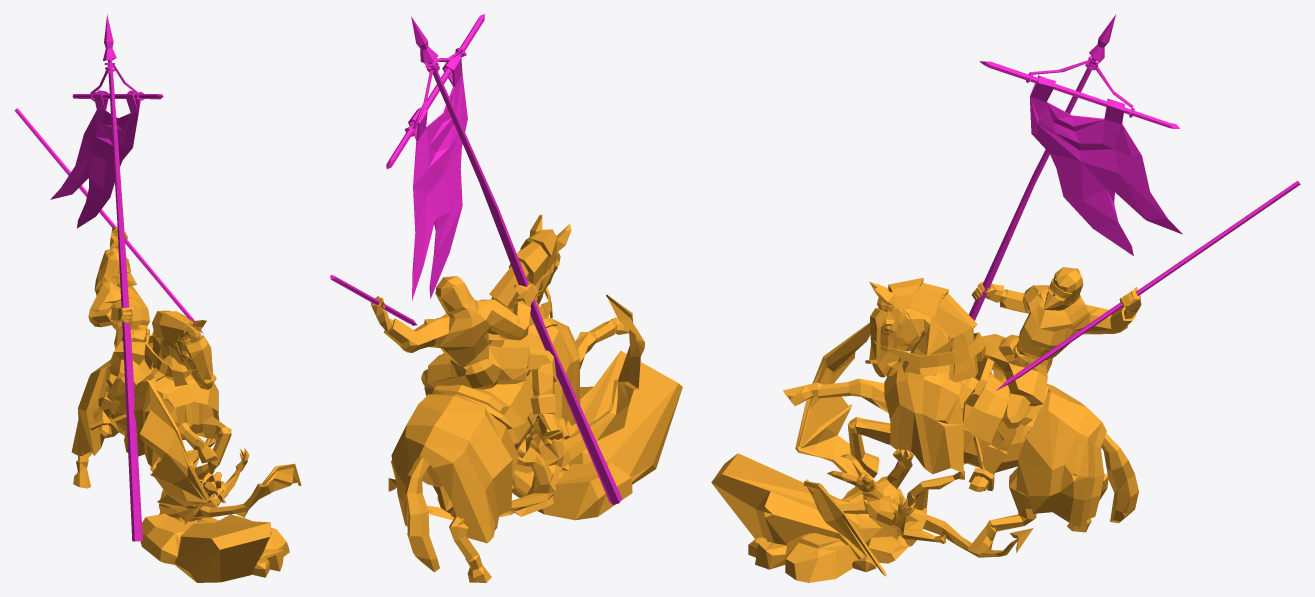
Rendered from SM_Statue_HorseRider_Gargoyle_Fantasy.fbx.
3 renders of one model, left to right at view 1: azimuth 30°, elevation 25°; view 2: azimuth 150°, elevation 25°; view 3: azimuth 270°, elevation 25°, orthographic. The views are drawn at different scales.
Visible parts, largest first — view 1: SM_Statue_HorseRider_Gargoyle_Fantasy; view 2: SM_Statue_HorseRider_Gargoyle_Fantasy; view 3: SM_Statue_HorseRider_Gargoyle_Fantasy.
Part boxes in pixels (x1=…): SM_Statue_HorseRider_Gargoyle_Fantasy: x1=14, y1=14, x2=301, y2=582; SM_Statue_HorseRider_Gargoyle_Fantasy: x1=330, y1=14, x2=682, y2=582; SM_Statue_HorseRider_Gargoyle_Fantasy: x1=711, y1=14, x2=1300, y2=582.
Bounding box in the file's own units: 1.74 × 4.3 × 4.27.
